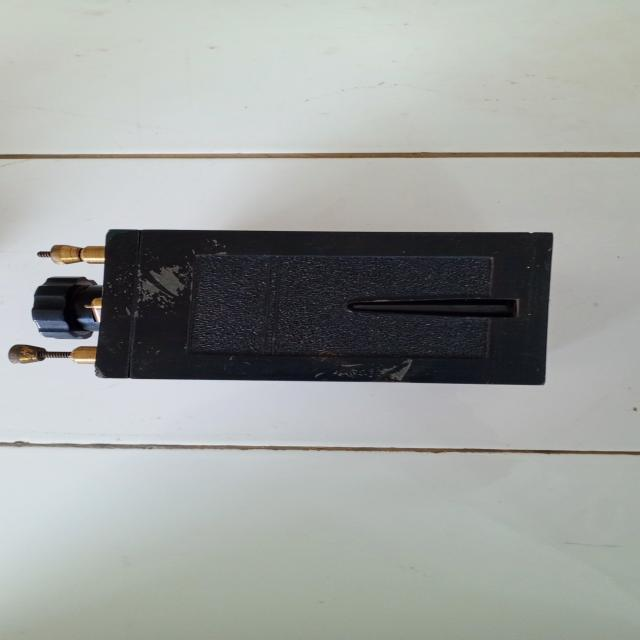Set of Resistances: (4, 213, 584, 403)
